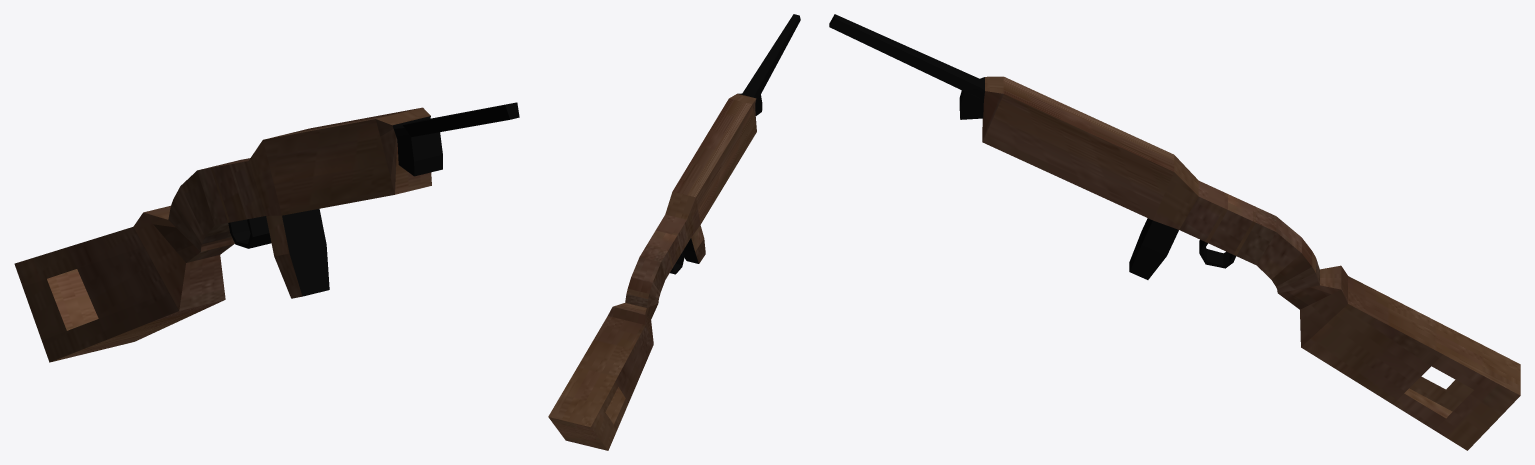
The model's file is Gun.glb.
3 views of the same model, side by side, from view 1: azimuth 30°, elevation 25°; view 2: azimuth 150°, elevation 25°; view 3: azimuth 270°, elevation 25° (orthographic). The views are drawn at different scales.
Parts seen in each view (by area): view 1: Cube; view 2: Cube; view 3: Cube.
Boxes of the visible parts, x1=… form: Cube: x1=14, y1=102, x2=519, y2=362; Cube: x1=548, y1=14, x2=800, y2=450; Cube: x1=829, y1=14, x2=1520, y2=450.
Bounding box in the file's own units: 0.5465 × 3.4 × 5.09.
Materials: 2 (1 with a texture image).
